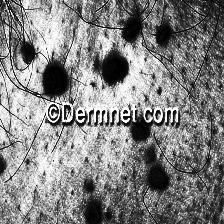Benign Marking or Mole: (123, 19, 171, 46), (104, 58, 126, 86), (43, 66, 64, 95), (148, 166, 167, 191), (131, 120, 150, 141), (20, 42, 35, 64)
